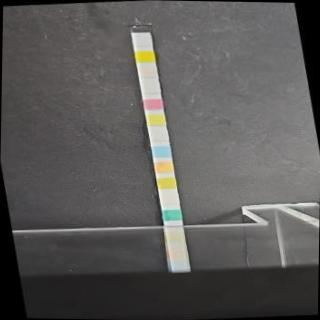mark: (158, 192, 180, 204), (148, 130, 169, 142), (132, 36, 152, 48), (137, 66, 157, 78), (140, 83, 160, 95), (143, 98, 163, 110), (145, 113, 165, 125), (151, 146, 171, 158), (154, 161, 174, 173), (156, 176, 176, 188), (162, 208, 182, 220), (134, 52, 154, 62)
